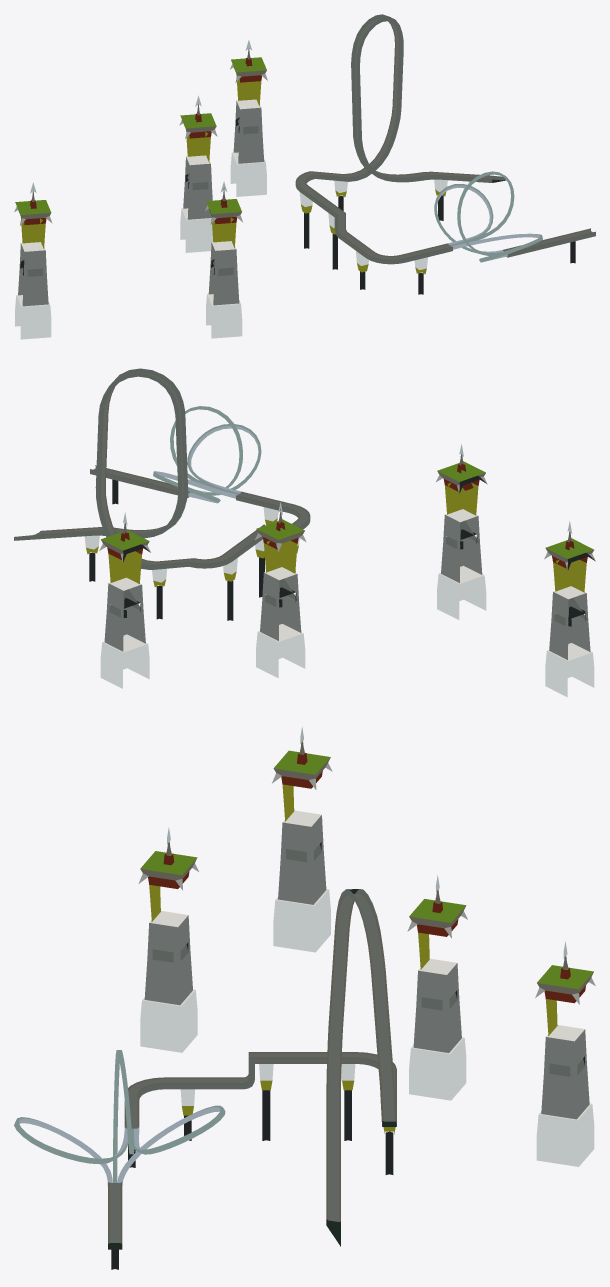
Rendered from Chunk7.obj.
The picture shows the model from 3 angles, top to bottom: view 1: azimuth 30°, elevation 25°; view 2: azimuth 150°, elevation 25°; view 3: azimuth 270°, elevation 25°; orthographic projection. The views are drawn at different scales.
Bounding box in the file's own units: 7552 × 2960 × 5195.
